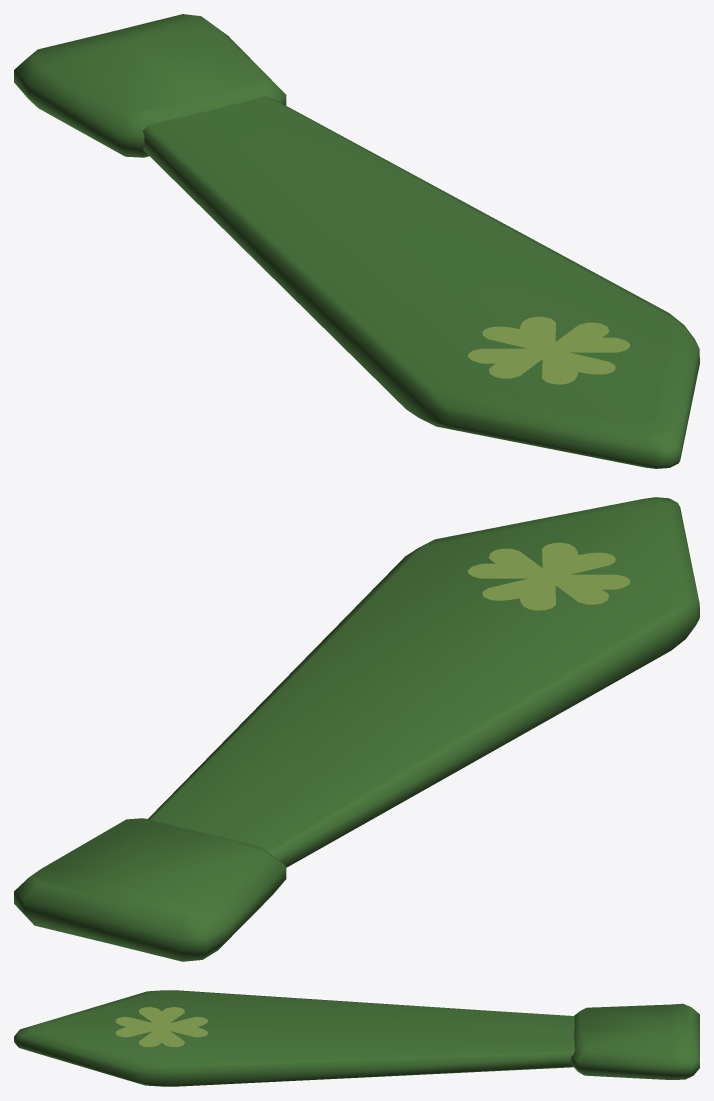
Rendered from Tie_01.fbx.
3 views of the same model, one above another, from view 1: azimuth 30°, elevation 25°; view 2: azimuth 150°, elevation 25°; view 3: azimuth 270°, elevation 25° (orthographic). The views are drawn at different scales.
Parts seen in each view (by area): view 1: Tie_01; view 2: Tie_01; view 3: Tie_01.
Boxes of the visible parts, bbox=[...] form: Tie_01: bbox=[14, 14, 699, 468]; Tie_01: bbox=[14, 497, 699, 961]; Tie_01: bbox=[14, 990, 699, 1086].
Bounding box in the file's own units: 0.1172 × 0.0193 × 0.4324.
